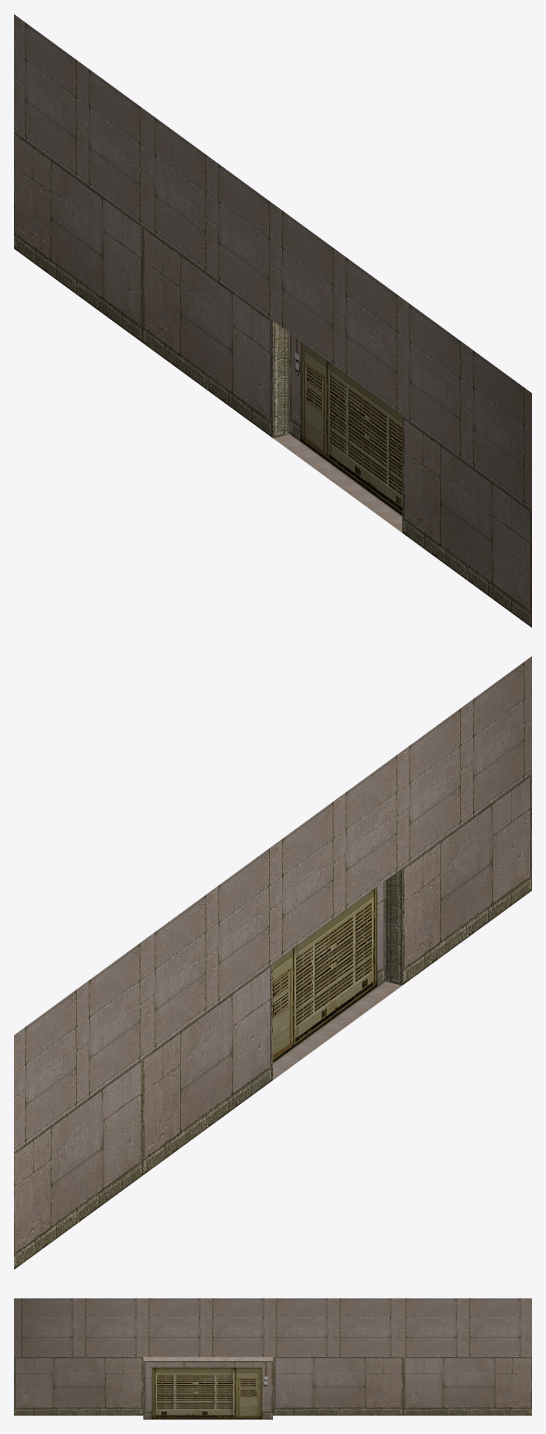
File: M2Zone4_Building07C.glb
3 views of the same model, one above another, from view 1: azimuth 30°, elevation 25°; view 2: azimuth 150°, elevation 25°; view 3: azimuth 270°, elevation 25° (orthographic). The views are drawn at different scales.
Parts seen in each view (by area): view 1: M2ZONE4_BUILDING07C; view 2: M2ZONE4_BUILDING07C; view 3: M2ZONE4_BUILDING07C.
Part boxes in pixels (<box>): M2ZONE4_BUILDING07C: <box>14,14,531,627</box>; M2ZONE4_BUILDING07C: <box>14,656,531,1269</box>; M2ZONE4_BUILDING07C: <box>14,1298,531,1419</box>.
Bounding box in the file's own units: 0.6 × 8 × 32.
3 materials, 3 textured.
